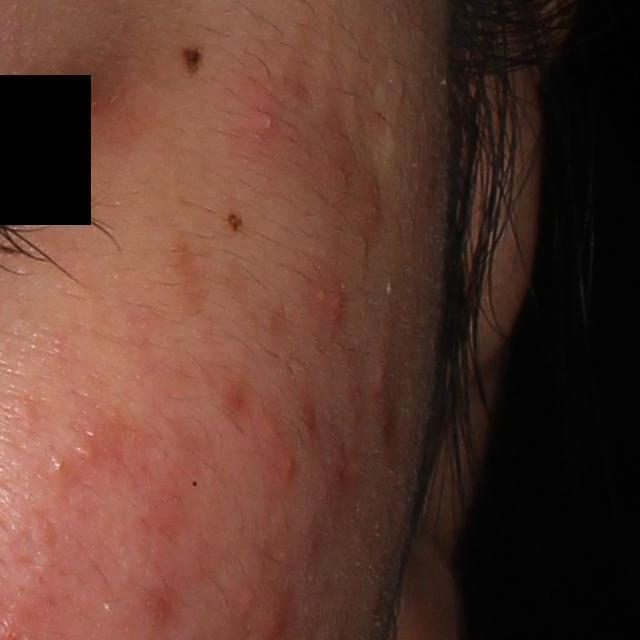nevus: (176, 37, 203, 72), (223, 206, 246, 236)
papule: (310, 284, 350, 327)
